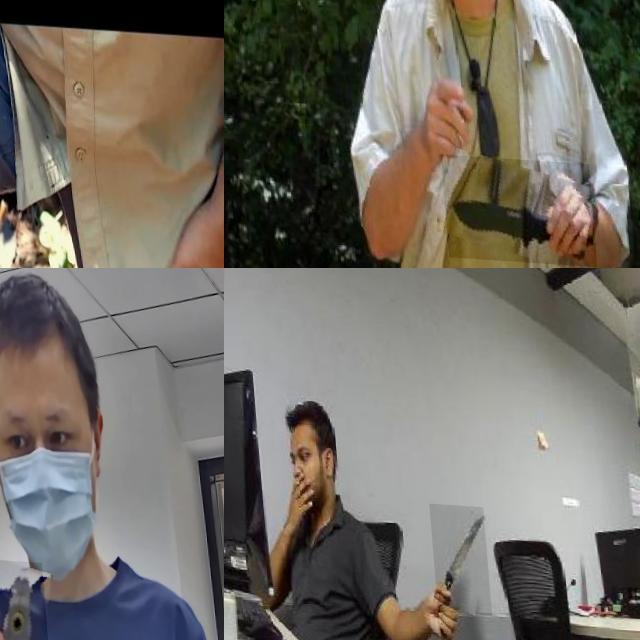-: (434, 150, 588, 260), (424, 499, 484, 610)
gun-knife-thesis - v11 Yolov5 augmented: (0, 553, 47, 640)
